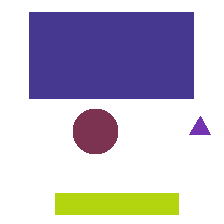circle: (73, 109, 117, 153)
rectangle: (29, 12, 193, 98), (55, 193, 178, 214)
triangle: (189, 116, 210, 134)
